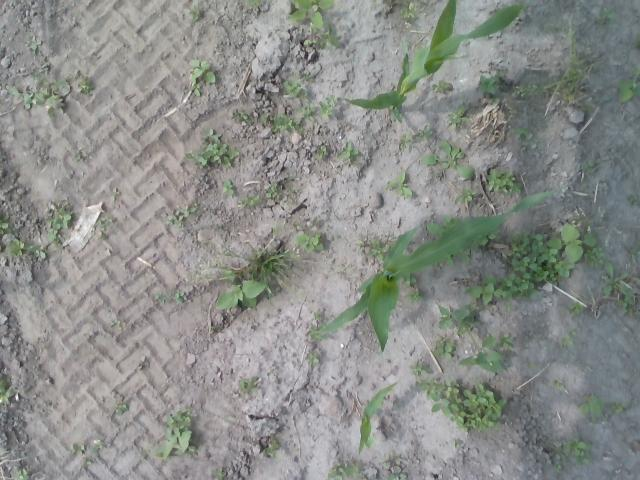Maize: (312, 192, 558, 359), (338, 0, 532, 123), (357, 382, 399, 456)
Weeds: (506, 217, 604, 285), (203, 234, 298, 302), (414, 376, 506, 432), (464, 274, 540, 313), (154, 406, 196, 460), (458, 332, 512, 374), (419, 139, 474, 180), (24, 70, 72, 116), (216, 269, 269, 310), (184, 128, 238, 168), (603, 262, 640, 317), (435, 302, 484, 336), (287, 0, 335, 33), (45, 204, 72, 252), (188, 59, 217, 97), (554, 436, 592, 464), (485, 168, 523, 196), (68, 440, 103, 470), (354, 236, 390, 262), (4, 239, 46, 261), (616, 64, 640, 102), (478, 72, 504, 106), (378, 452, 408, 480), (578, 394, 606, 424), (282, 74, 312, 102), (423, 213, 459, 236), (166, 204, 198, 227), (469, 228, 500, 250), (439, 248, 472, 268), (447, 104, 470, 132), (271, 114, 303, 134), (294, 232, 324, 253), (387, 173, 412, 198), (327, 461, 359, 480), (74, 68, 94, 96), (0, 378, 19, 406), (432, 337, 456, 359), (514, 126, 539, 147), (320, 24, 340, 50), (318, 94, 336, 118), (408, 361, 434, 377), (336, 142, 359, 160), (238, 375, 258, 395), (306, 324, 328, 341), (264, 437, 280, 459), (455, 188, 477, 204), (296, 103, 314, 122), (567, 299, 585, 317), (239, 193, 261, 207), (596, 9, 616, 24), (399, 130, 414, 150), (414, 125, 432, 141), (400, 1, 415, 20), (0, 214, 14, 234), (231, 108, 251, 122), (580, 159, 596, 176), (24, 35, 38, 54), (404, 290, 426, 302), (184, 5, 200, 20), (283, 188, 298, 204), (399, 272, 416, 286), (432, 80, 449, 94), (222, 178, 235, 196), (560, 332, 576, 346), (610, 402, 628, 414), (266, 182, 278, 199), (306, 352, 320, 366), (211, 467, 226, 480), (628, 240, 640, 256), (12, 469, 29, 480), (97, 216, 112, 228), (576, 44, 592, 55), (110, 187, 120, 204), (174, 289, 185, 304), (551, 378, 564, 390), (627, 196, 640, 208), (114, 403, 128, 414), (155, 292, 166, 304), (272, 223, 282, 236), (316, 145, 326, 158), (8, 87, 20, 97), (72, 152, 82, 162), (312, 312, 322, 322), (260, 113, 269, 124), (453, 440, 462, 450), (303, 38, 317, 44), (636, 32, 640, 50), (247, 0, 260, 5), (554, 463, 562, 471), (114, 318, 121, 326), (528, 364, 536, 369), (211, 326, 215, 333)
